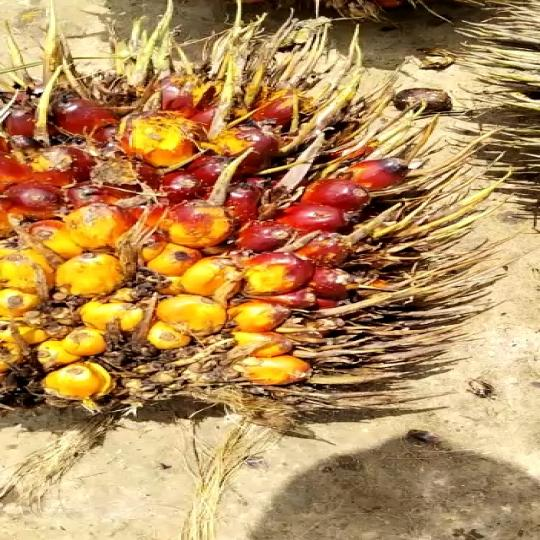masak: (0, 27, 488, 433)
